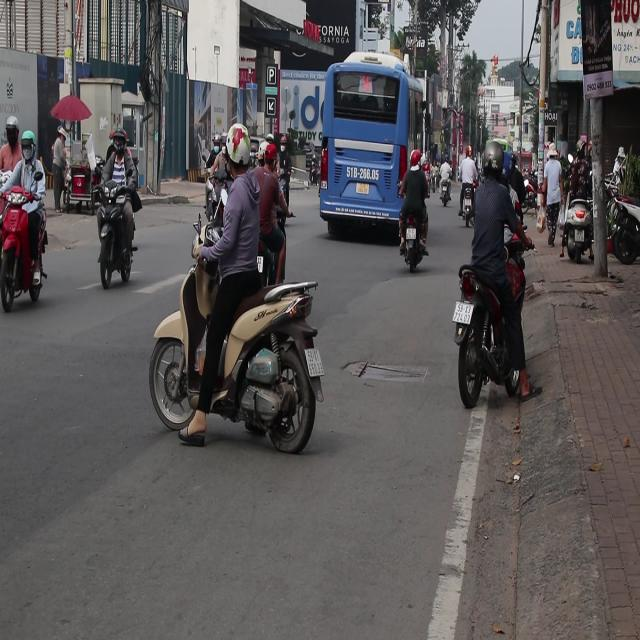bus: (320, 54, 424, 244)
motorbike: (152, 255, 336, 485), (454, 261, 554, 424), (0, 166, 48, 311), (95, 173, 141, 288), (251, 228, 305, 282), (207, 158, 232, 234), (398, 215, 428, 273), (460, 184, 483, 243), (274, 184, 296, 223), (442, 187, 455, 208)
